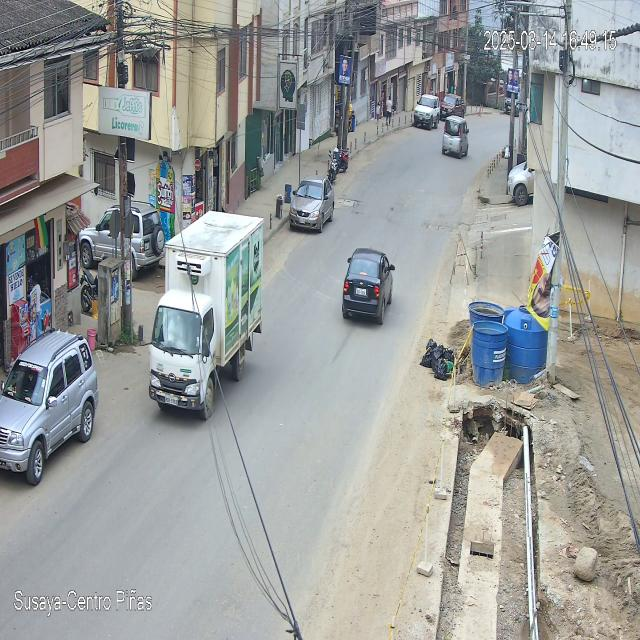SED: (341, 248, 395, 330), (290, 176, 330, 235)
SUV: (0, 332, 98, 487)
TRUCK: (148, 211, 264, 421)
